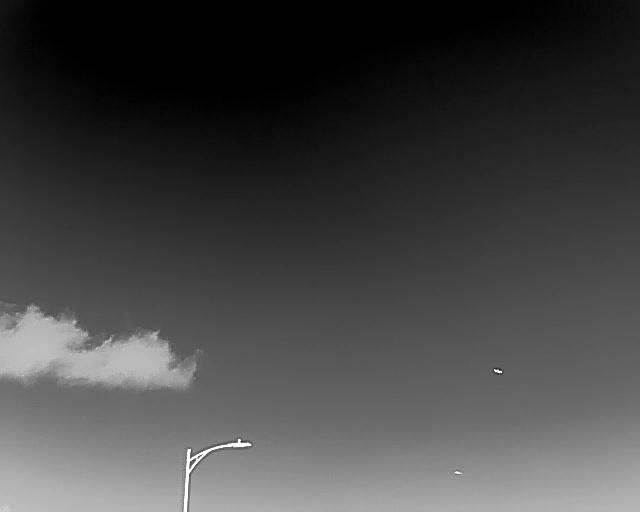fpv-drone: (492, 367, 503, 374)
